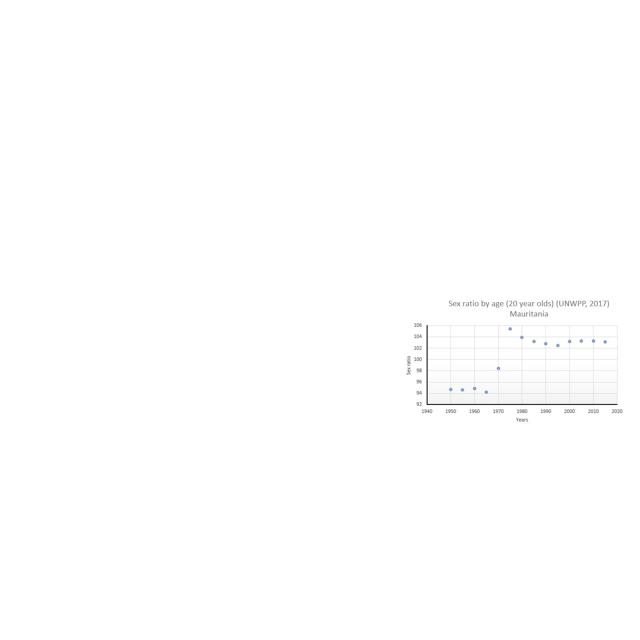Graph: (401, 295, 627, 426)
